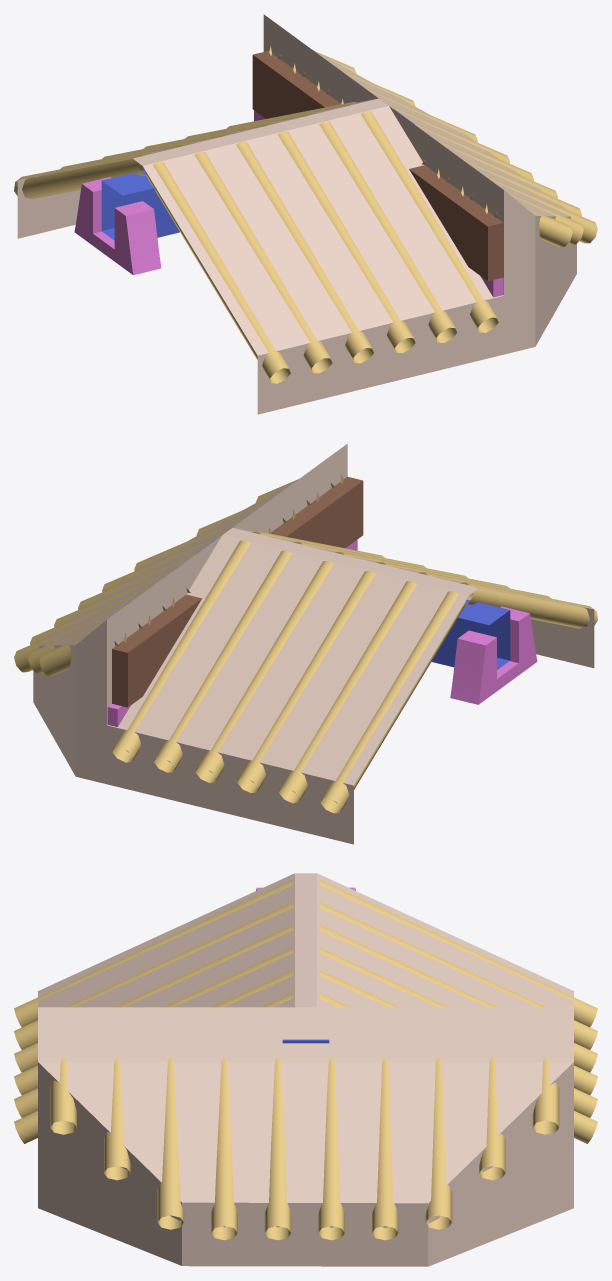
File: KitchenRoof.fbx
3 views of the same model, one above another, from view 1: azimuth 30°, elevation 25°; view 2: azimuth 150°, elevation 25°; view 3: azimuth 270°, elevation 25° (orthographic). The views are drawn at different scales.
Visible parts, largest first — view 1: Kitchen_Roof; view 2: Kitchen_Roof; view 3: Kitchen_Roof.
Boxes of the visible parts, left/top/right/bottom form: Kitchen_Roof: left=14, top=14, right=597, bottom=414; Kitchen_Roof: left=14, top=444, right=597, bottom=844; Kitchen_Roof: left=14, top=873, right=597, bottom=1266.
Bounding box in the file's own units: 264 × 95.2 × 272.
